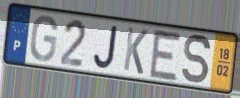2: (59, 18, 88, 70)
E: (148, 27, 184, 84)
G: (28, 14, 59, 63)
J: (92, 23, 119, 71)
K: (121, 25, 149, 77)
S: (181, 33, 213, 87)
